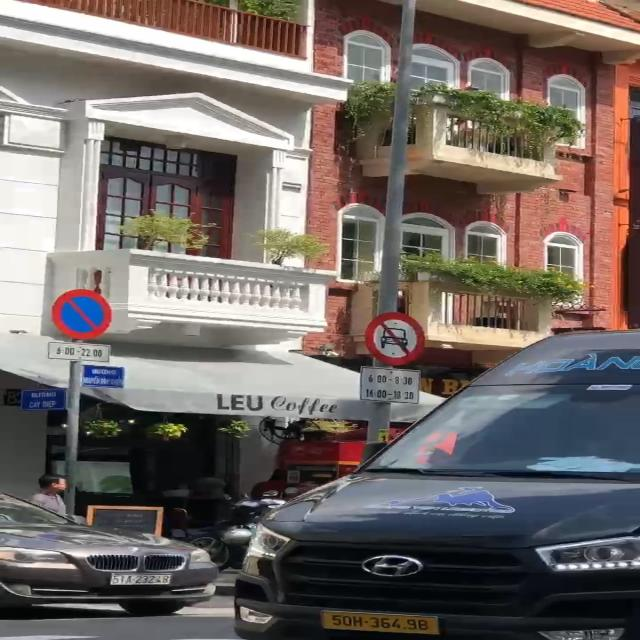Bien bao cam do xe: (48, 286, 123, 343)
Bien bao cam xe oto: (362, 311, 429, 369)
